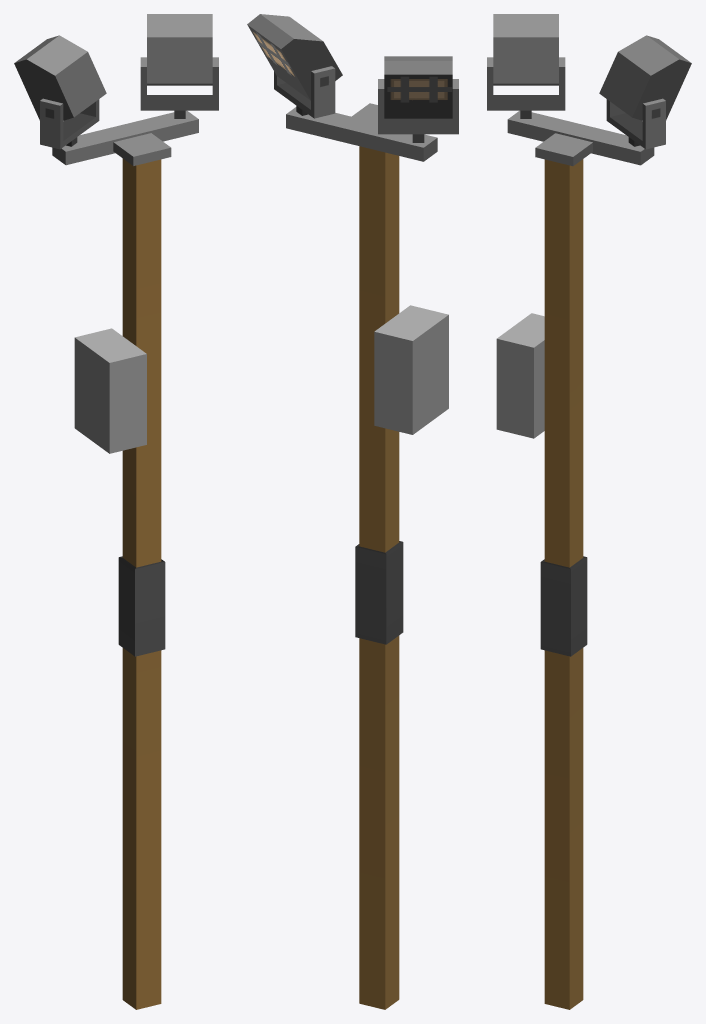
The model's file is powerpole.gltf.
The picture shows the model from 3 angles, left to right: view 1: azimuth 30°, elevation 25°; view 2: azimuth 150°, elevation 25°; view 3: azimuth 330°, elevation 25°; orthographic projection. The views are drawn at different scales.
Visible parts, largest first — view 1: SM_Env_Power_Pole_01, SM_Prop_Flood_Lights_01; view 2: SM_Env_Power_Pole_01, SM_Prop_Flood_Lights_01; view 3: SM_Env_Power_Pole_01, SM_Prop_Flood_Lights_01.
Part boxes in pixels (x1=…): SM_Env_Power_Pole_01: x1=74, y1=158, x2=165, y2=1009; SM_Prop_Flood_Lights_01: x1=14, y1=14, x2=218, y2=165; SM_Env_Power_Pole_01: x1=355, y1=146, x2=448, y2=1009; SM_Prop_Flood_Lights_01: x1=247, y1=14, x2=458, y2=161; SM_Env_Power_Pole_01: x1=496, y1=159, x2=587, y2=1009; SM_Prop_Flood_Lights_01: x1=487, y1=14, x2=691, y2=166.
Size of the model in its own units: 0.0229 by 0.1044 by 0.0125.
Materials: 1 (1 with a texture image).
